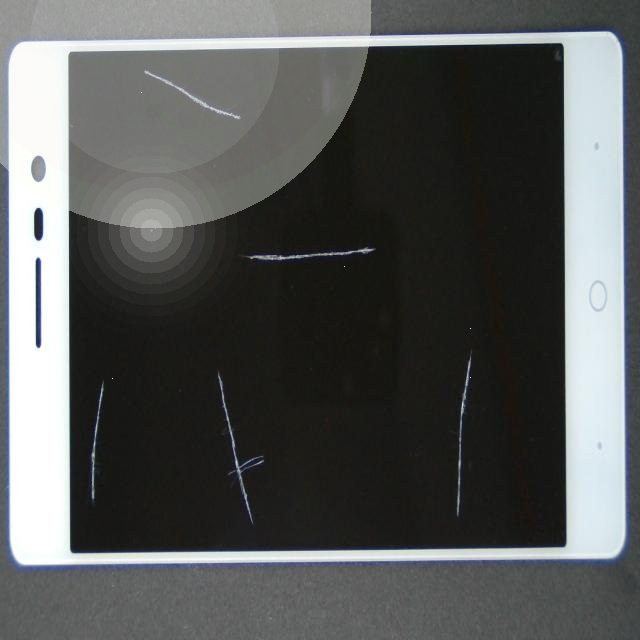scratch: (206, 259, 640, 640), (83, 121, 314, 640), (107, 138, 333, 414), (34, 248, 131, 640), (10, 5, 241, 149)
